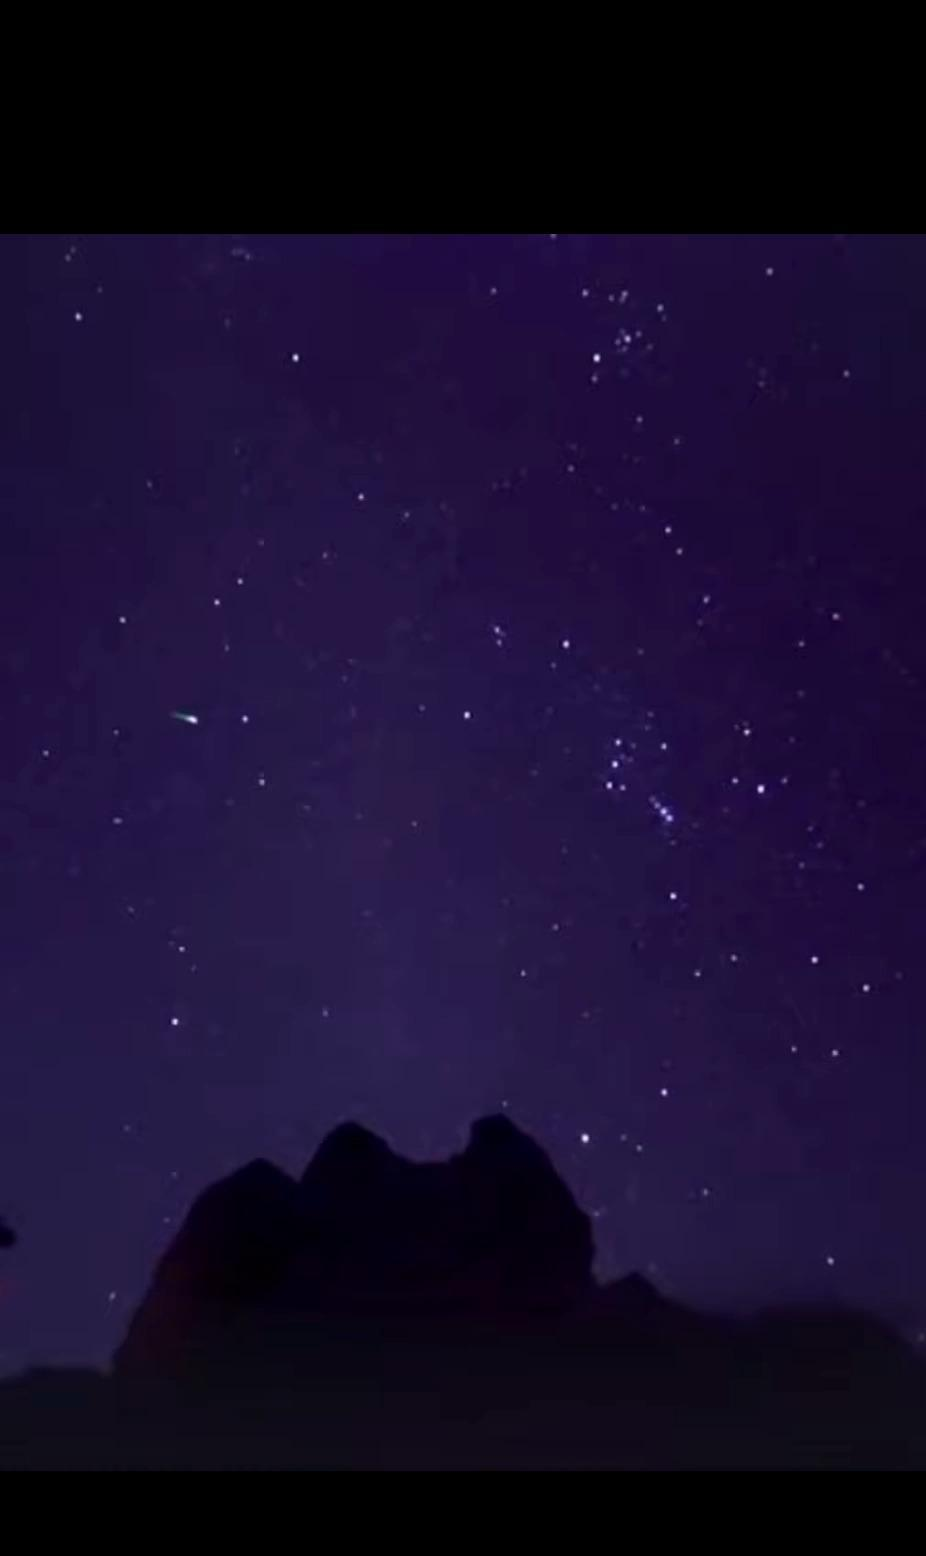meteorite: (152, 693, 214, 742)
